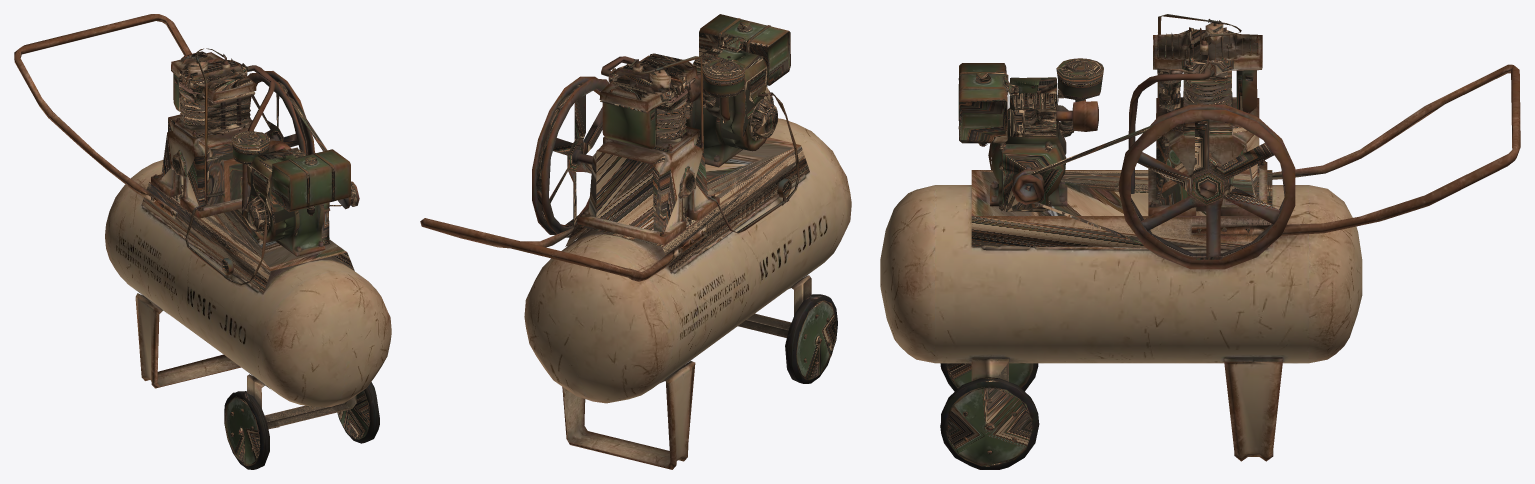
The model's file is old_military_compressor.glb.
3 views of the same model, side by side, from view 1: azimuth 30°, elevation 25°; view 2: azimuth 150°, elevation 25°; view 3: azimuth 270°, elevation 25° (orthographic). The views are drawn at different scales.
Visible parts, largest first — view 1: old_military_compressor; view 2: old_military_compressor; view 3: old_military_compressor.
Boxes of the visible parts, bbox=[...] form: old_military_compressor: bbox=[14, 14, 391, 469]; old_military_compressor: bbox=[420, 14, 851, 469]; old_military_compressor: bbox=[880, 14, 1520, 469].
Size of the model in its own units: 0.5939 by 1.18 by 1.67.
2 materials, 2 textured.
